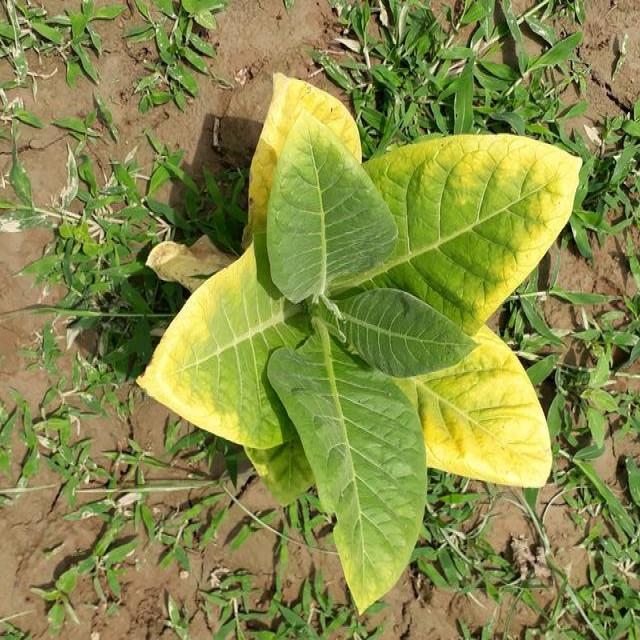crop: (143, 55, 585, 602)
